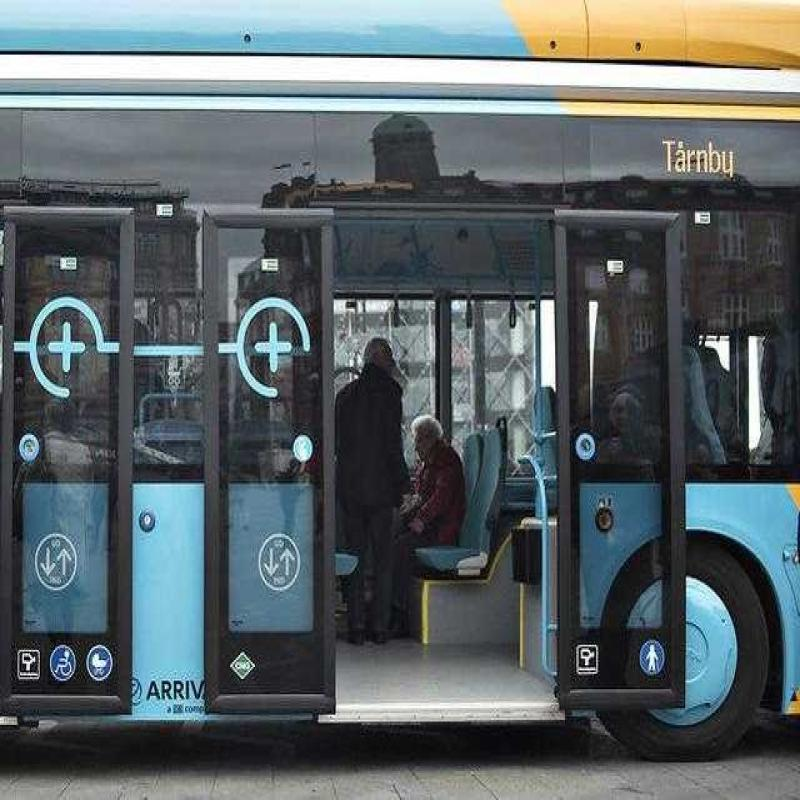bus: (5, 6, 800, 800)
